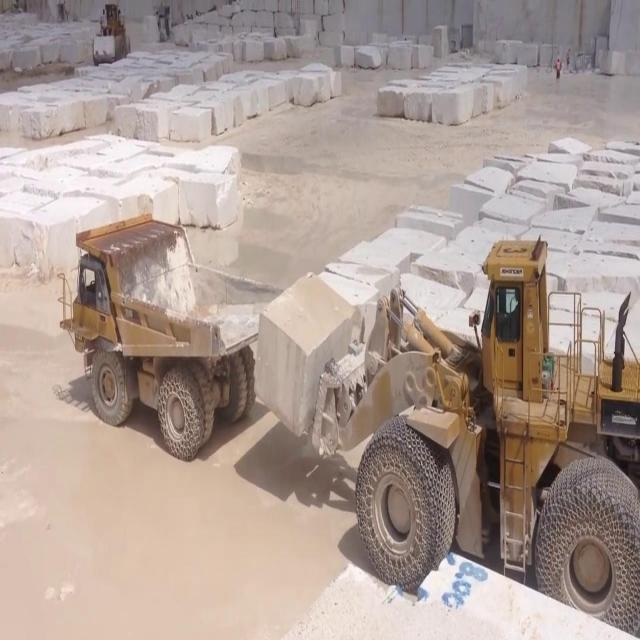Dump Truck: (56, 205, 259, 463)
Loader: (302, 234, 640, 636), (92, 3, 130, 63)
